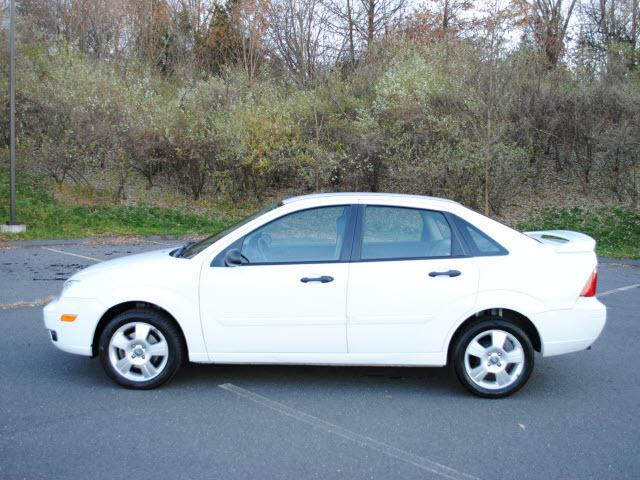car: (46, 189, 610, 399)
